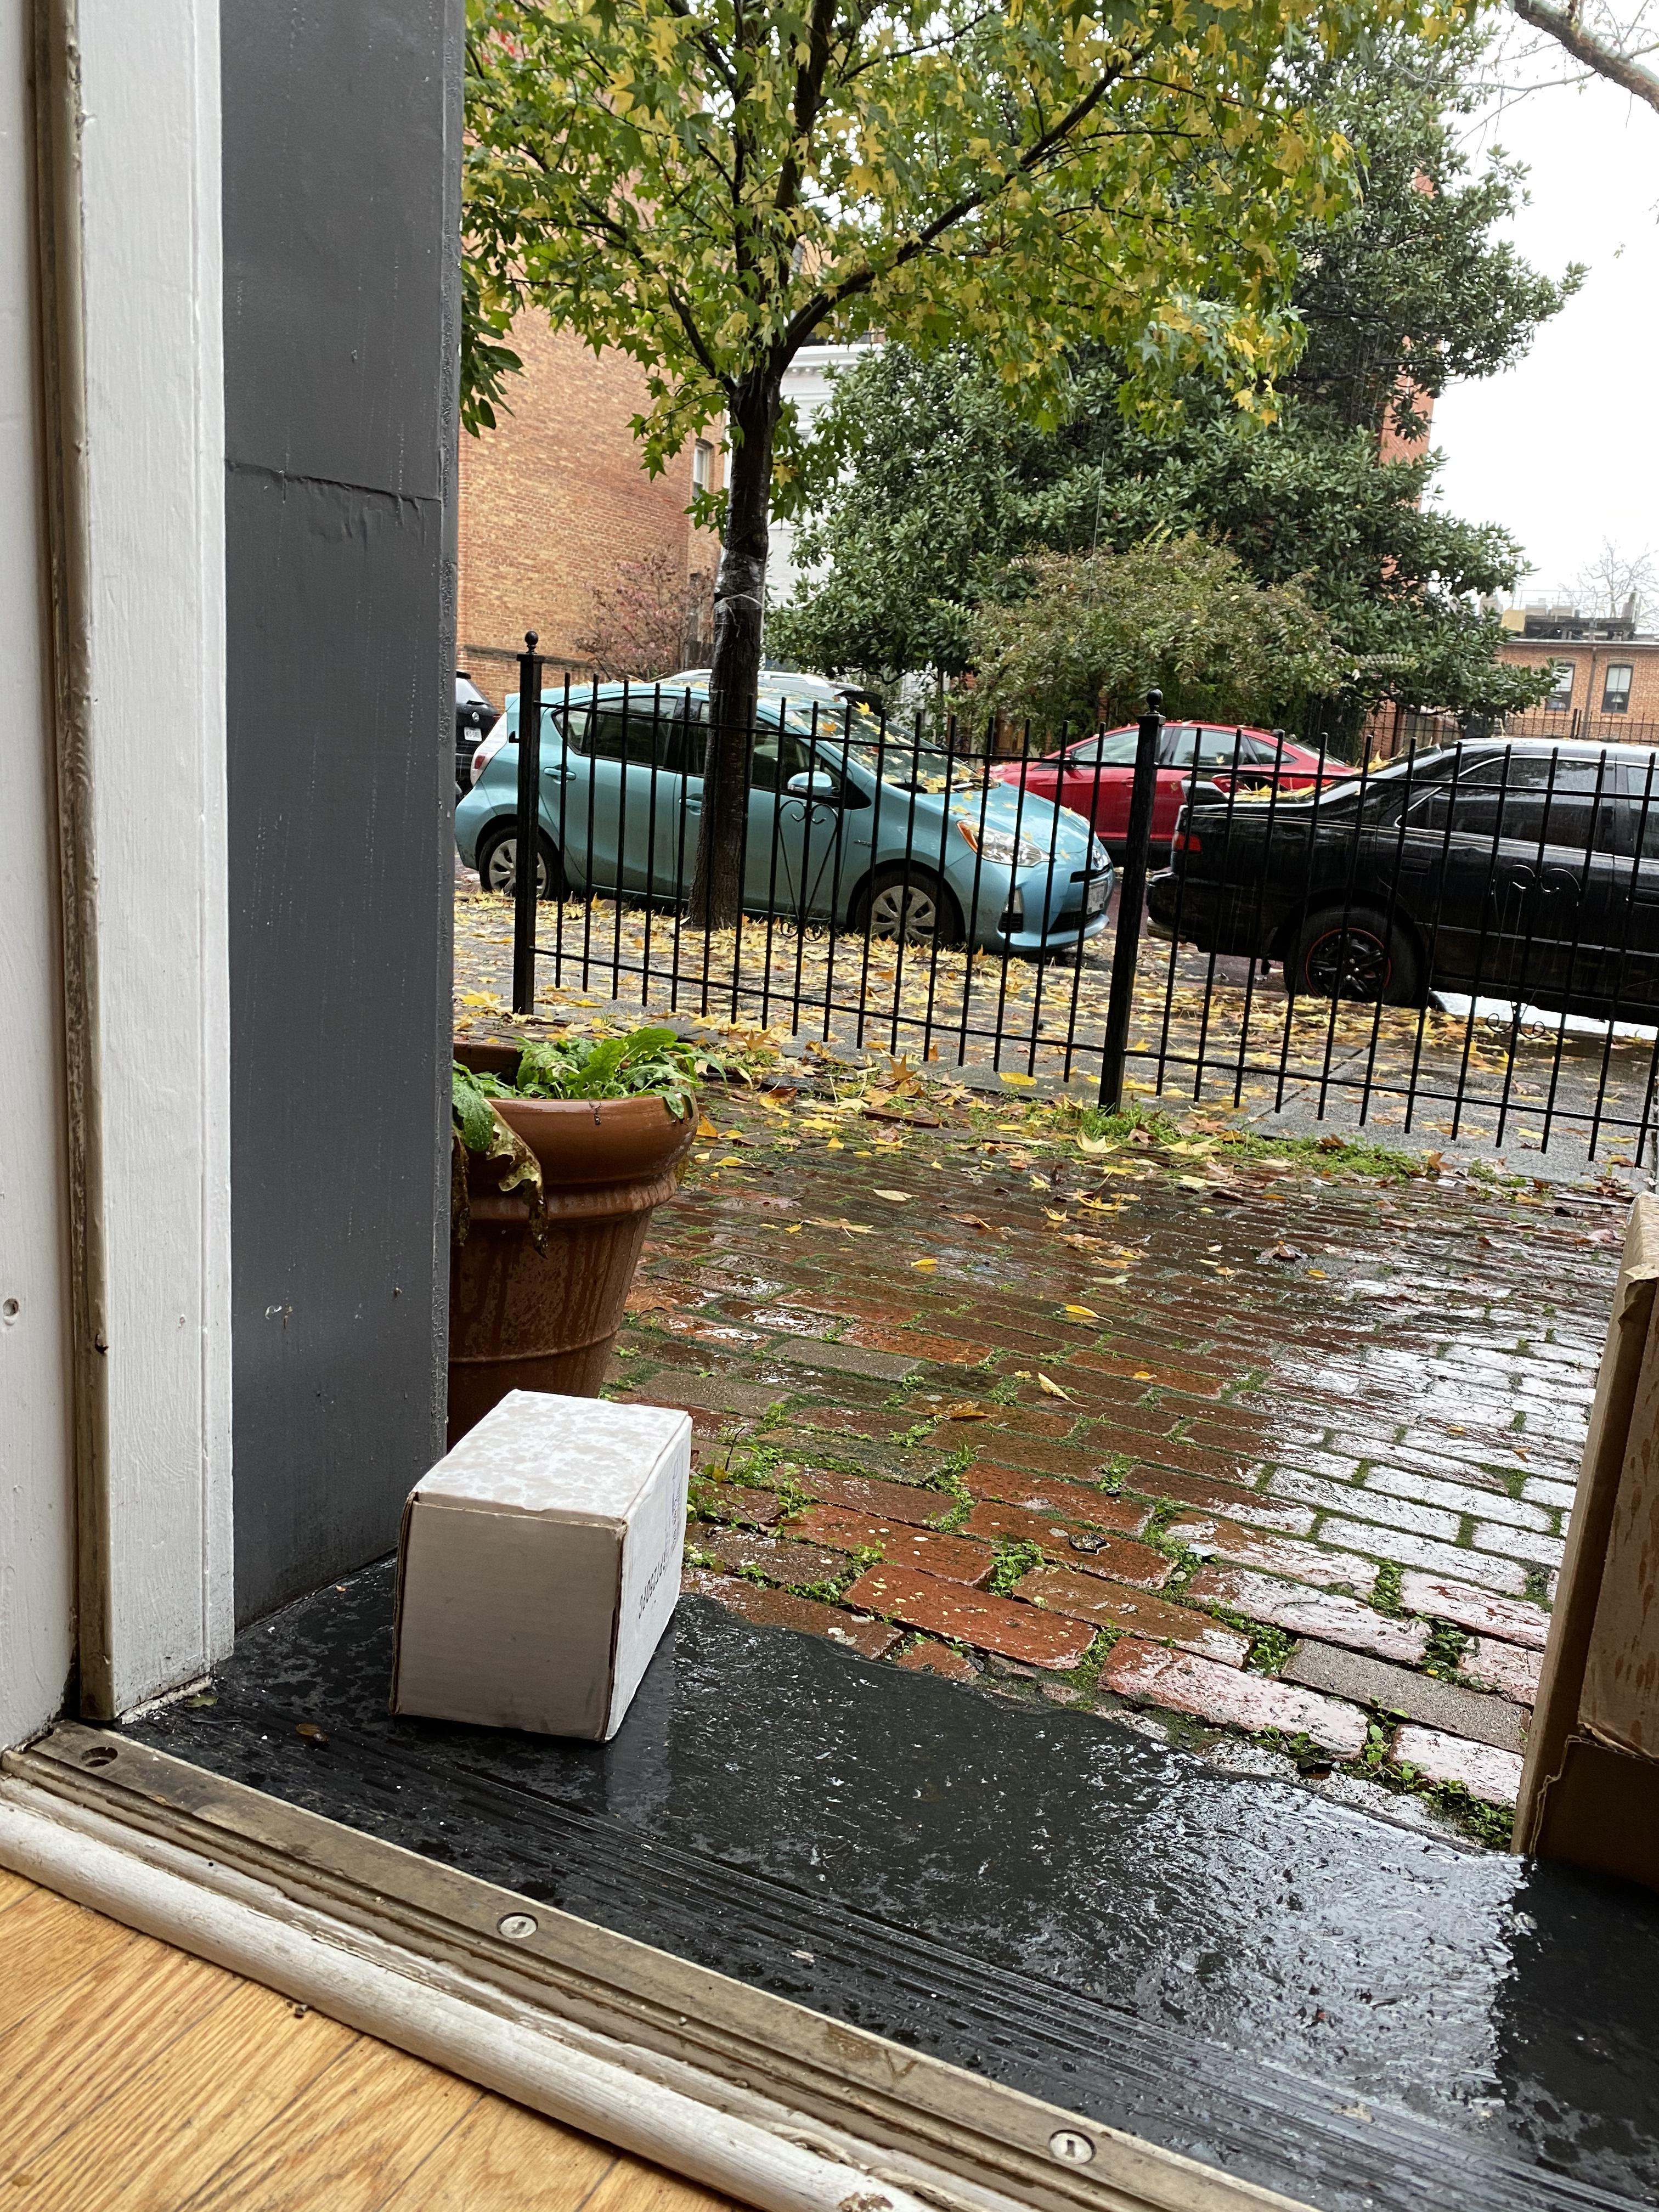package: (362, 1379, 721, 1763)
